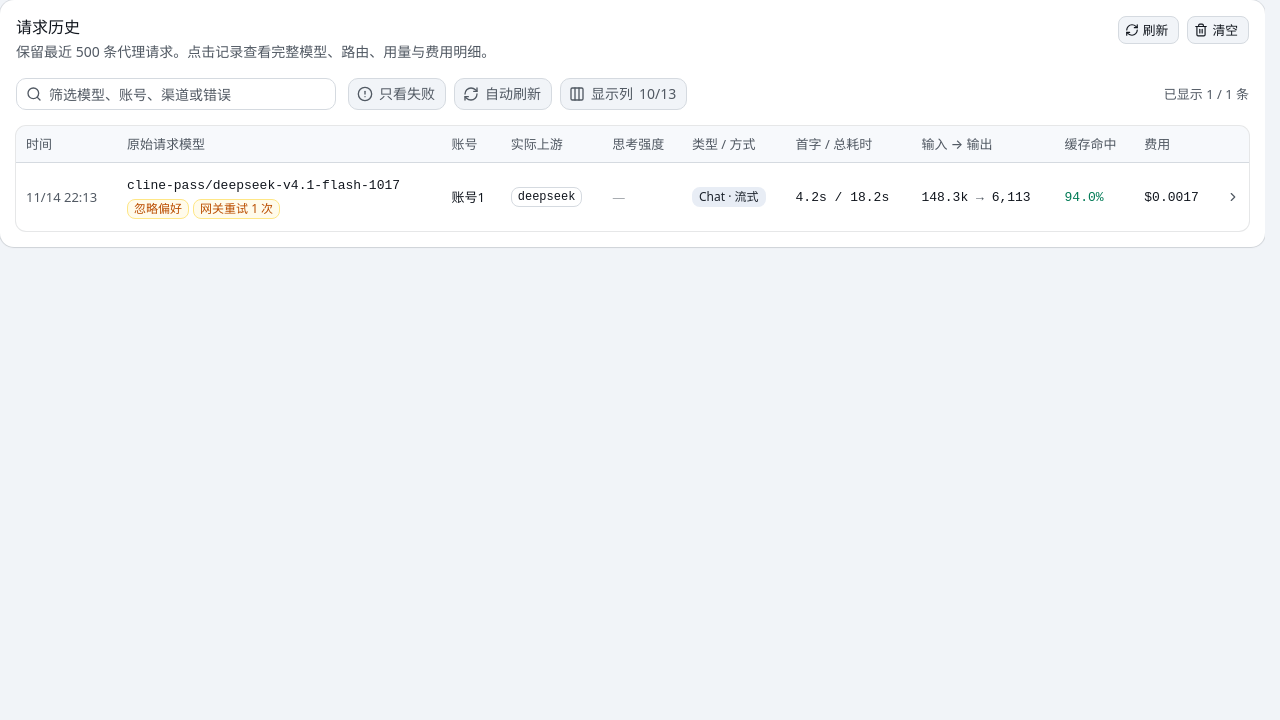
Test: gateway retry statuses and ignored-preference explanations remain in the drawer
This screenshot has width=1280, height=720.
Click the button named "查看请求详情" at (1233, 196), box [1221,184,1245,208]
(page scrolled)
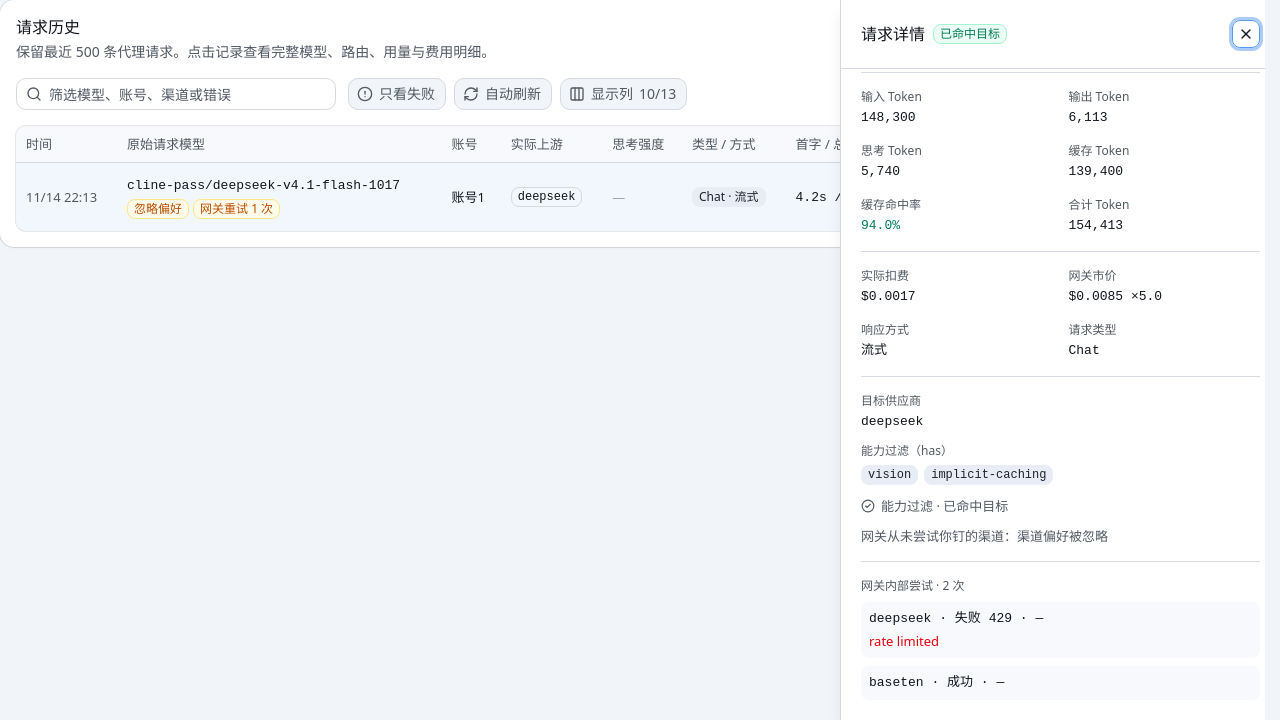
Expected: the text "deepseek · 失败 429 · —" is shown, [869,611,1043,626]
Expected: the text "rate limited" is shown, [869,632,939,650]
Expected: the text "网关从未尝试你钉的渠道：渠道偏好被忽略" is shown, [861,527,1108,545]
